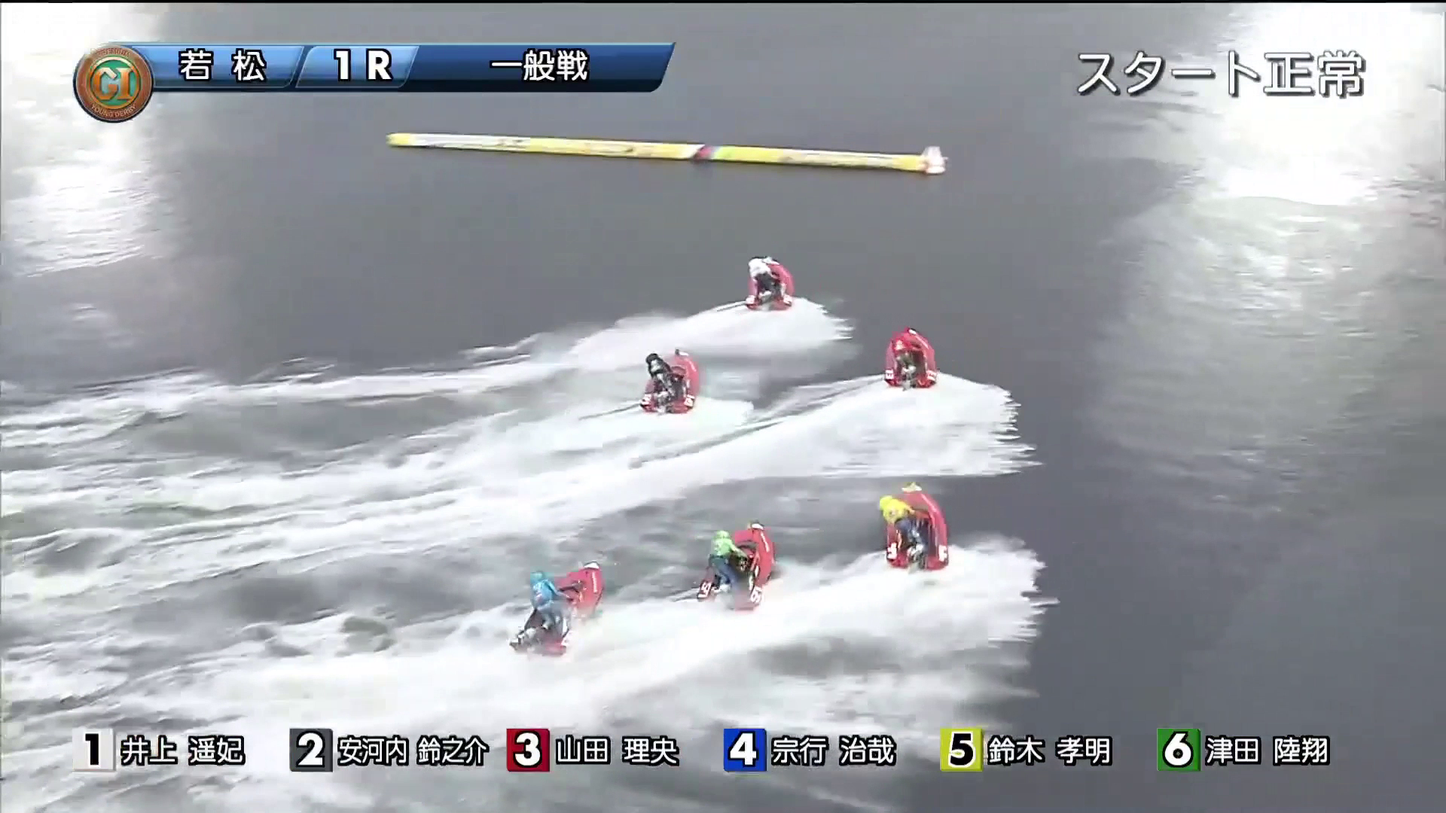１号艇: (722, 254, 793, 307)
２号艇: (615, 356, 744, 417)
３号艇: (852, 345, 950, 392)
４号艇: (652, 540, 786, 605)
５号艇: (461, 588, 585, 643)
６号艇: (868, 498, 968, 554)
